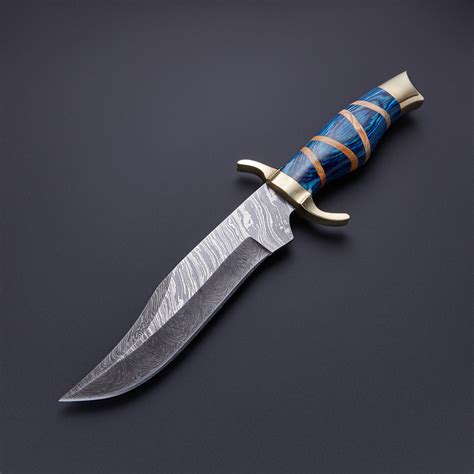knife: (56, 66, 426, 407)
